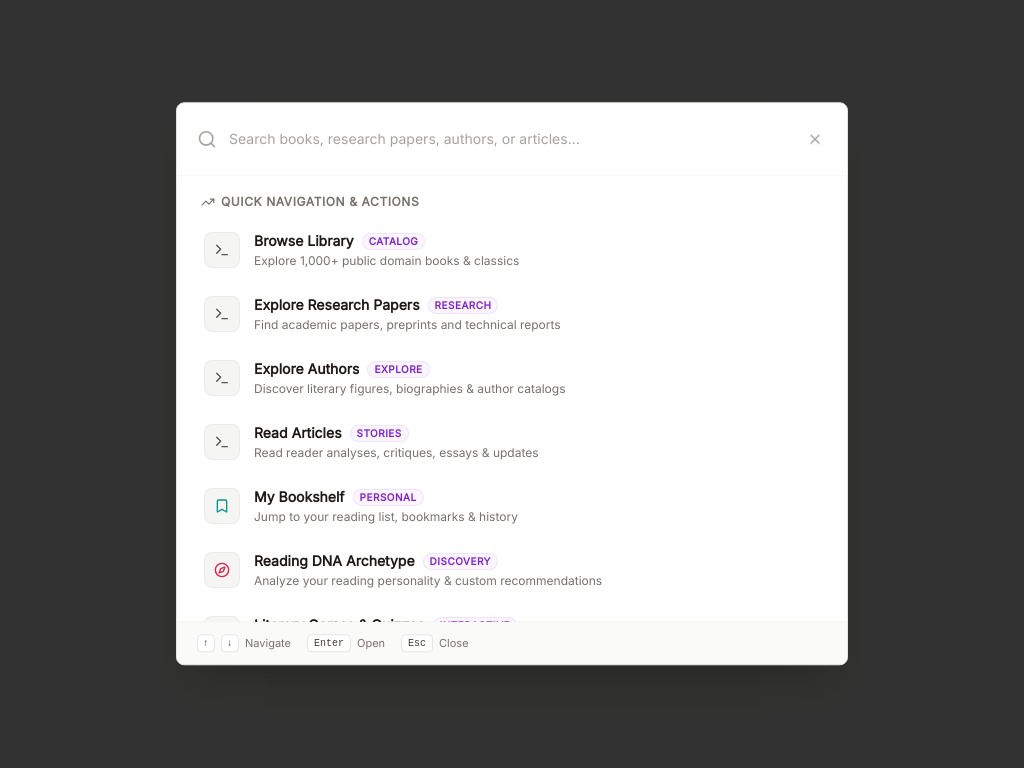
EnhancedGlobalSearch Multi-Category Search › navigates with keyboard ArrowDown and Enter, saving recent search
Later steps or results of the test are not shown.
Type "Gaban" into the field with placeholder "Search books, research papers, authors, or articles..." at (516, 139), box x1=229 y1=119 x2=803 y2=159
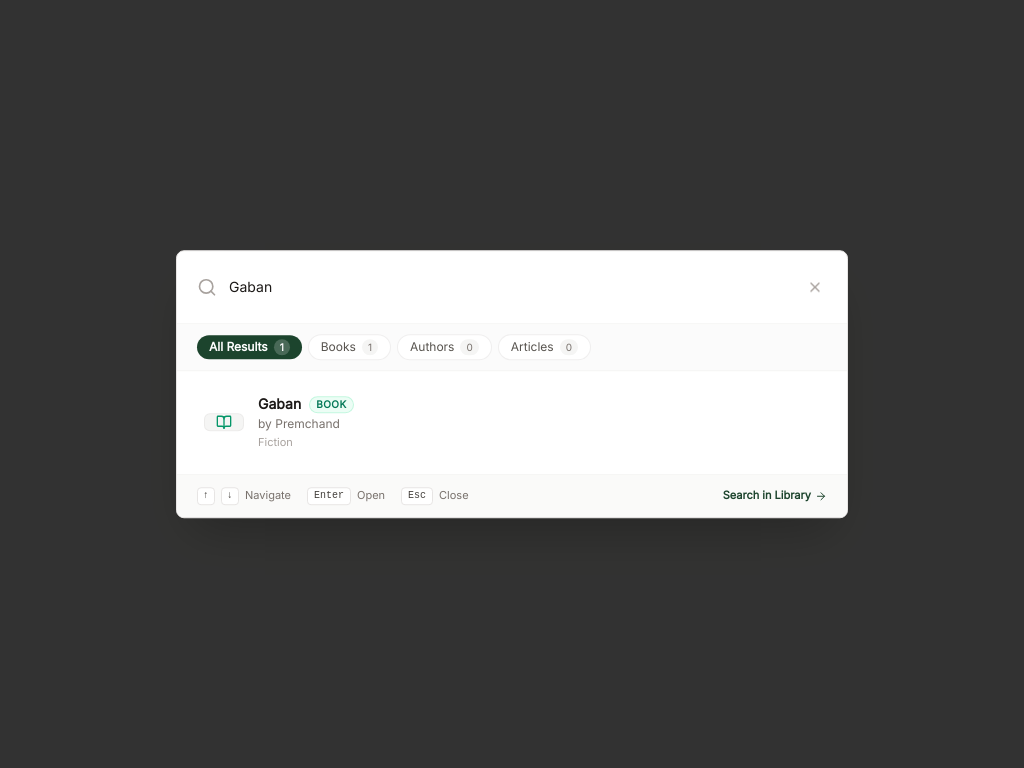
Expected: the text "Gaban" is shown, x1=258 y1=394 x2=301 y2=414
